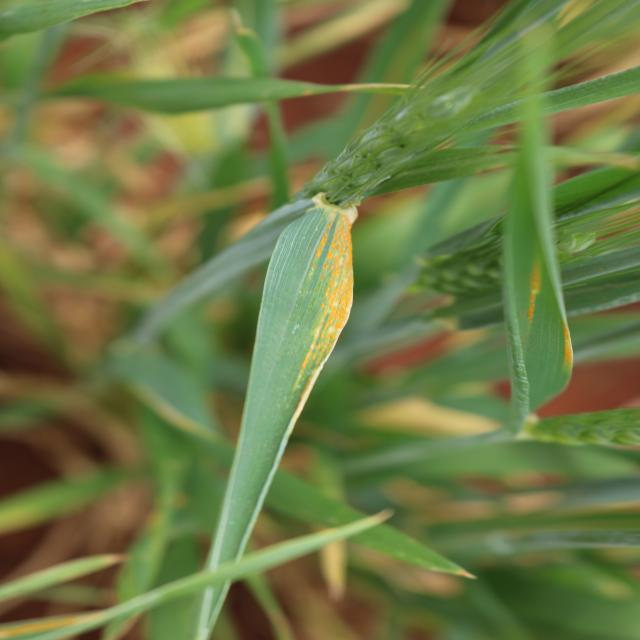Stripe Rust: (330, 217, 353, 327), (303, 332, 322, 381)
